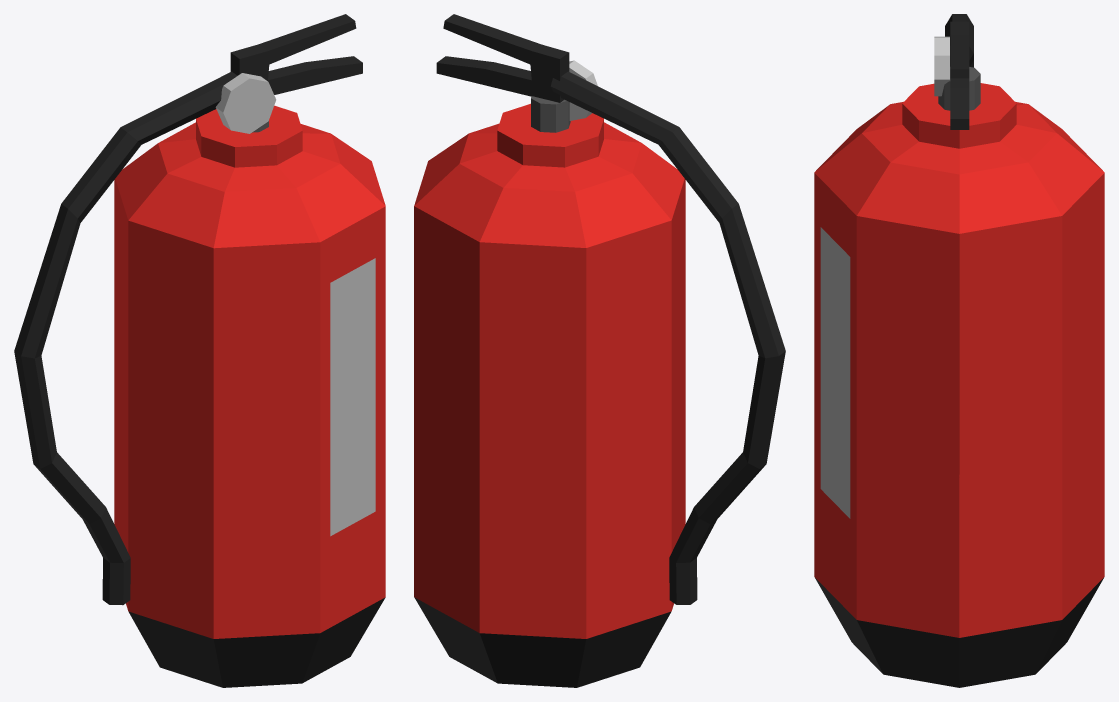
Rendered from Extinguisher.fbx.
3 views of the same model, side by side, from view 1: azimuth 30°, elevation 25°; view 2: azimuth 150°, elevation 25°; view 3: azimuth 270°, elevation 25° (orthographic). The views are drawn at different scales.
Visible parts, largest first — view 1: Cylinder.031; view 2: Cylinder.031; view 3: Cylinder.031.
Boxes of the visible parts, x1,y1,x2,y2 form: Cylinder.031: (14, 14, 385, 687); Cylinder.031: (414, 14, 785, 687); Cylinder.031: (814, 14, 1104, 687).
Bounding box in the file's own units: 291 × 474 × 200.
